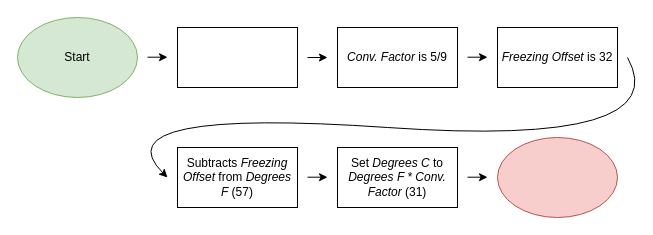
This 653x235 diagram has some shape labels left out. The shapes that lost their labels are listed below. From the top down, each one's box as (x1, y1, x2, y2) in pixels, then its label:
(176, 26, 298, 88): Degrees F is 89
(496, 136, 618, 218): Stop
